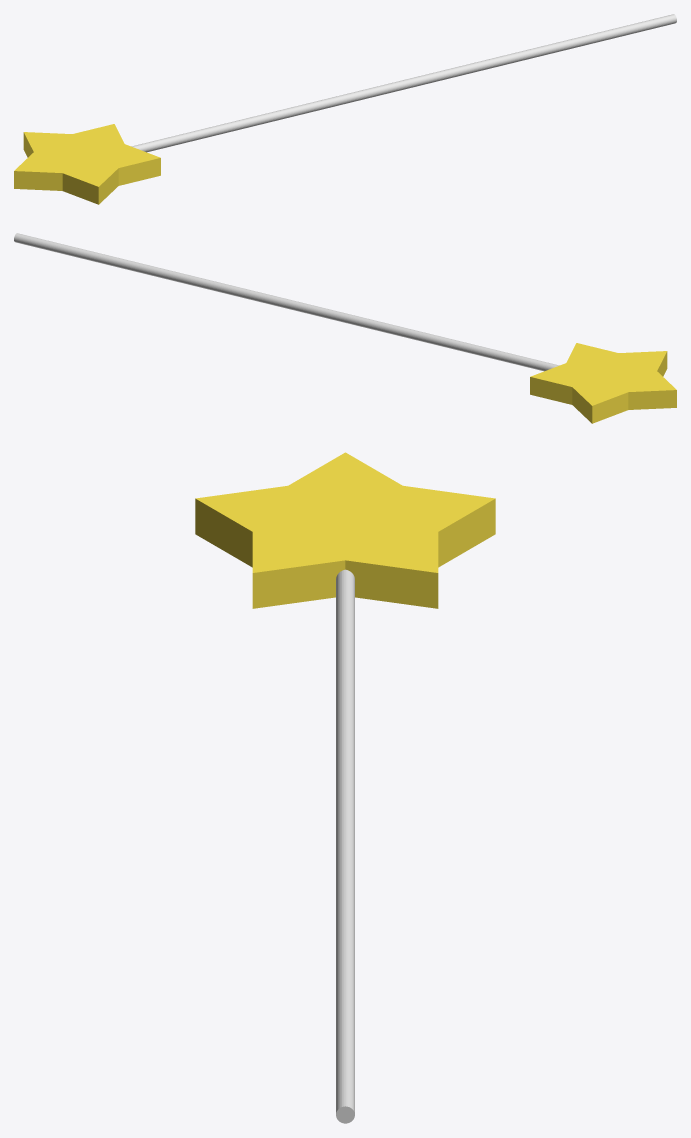
File: yukis_wizard_wand.obj
3 views of the same model, one above another, from view 1: azimuth 30°, elevation 25°; view 2: azimuth 150°, elevation 25°; view 3: azimuth 270°, elevation 25° (orthographic). The views are drawn at different scales.
Parts seen in each view (by area): view 1: 五角星_柱体.001, 杆_柱体.008; view 2: 五角星_柱体.001, 杆_柱体.008; view 3: 五角星_柱体.001, 杆_柱体.008.
Boxes of the visible parts, x1=… form: 五角星_柱体.001: x1=14, y1=124, x2=160, y2=204; 杆_柱体.008: x1=131, y1=14, x2=676, y2=152; 五角星_柱体.001: x1=530, y1=343, x2=676, y2=423; 杆_柱体.008: x1=14, y1=233, x2=559, y2=371; 五角星_柱体.001: x1=195, y1=452, x2=495, y2=608; 杆_柱体.008: x1=336, y1=569, x2=354, y2=1123.
Bounding box in the file's own units: 1.93 × 0.05 × 0.3804.
